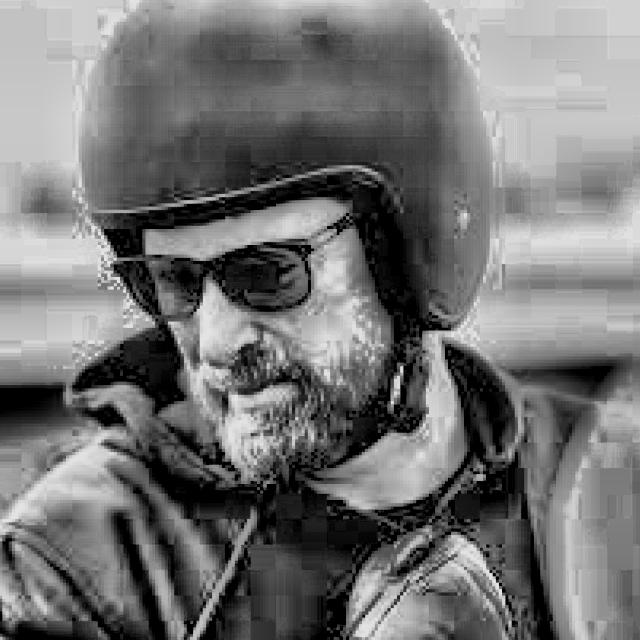Helmet: (53, 0, 518, 488)
